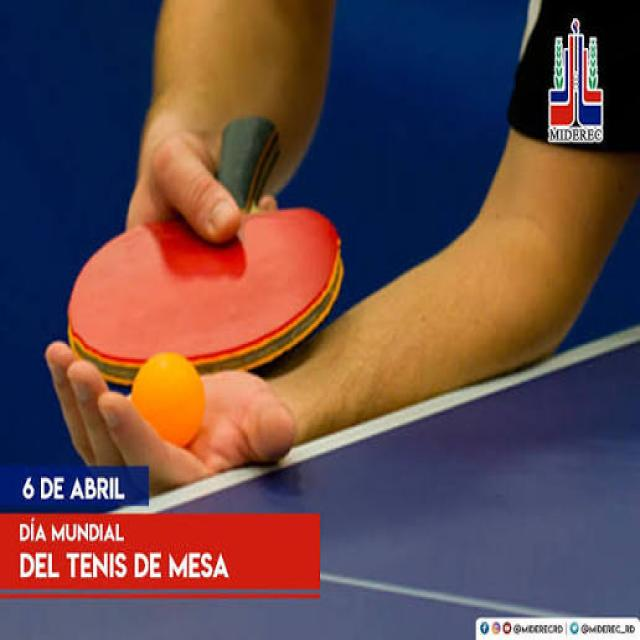TT Racket: (49, 206, 347, 401)
